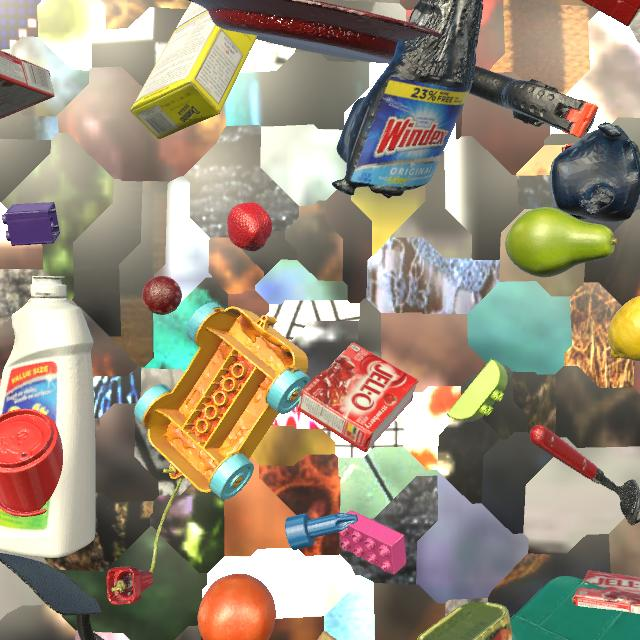ycb_004_sugar_box: (130, 2, 263, 139)
ycb_009_gelatin_box: (297, 342, 419, 453), (0, 50, 55, 119), (572, 570, 640, 614)
ycb_010_potted_meat_can: (417, 602, 512, 640)
ycb_012_strawberry: (227, 202, 272, 251)
ycb_014_lemon: (608, 296, 640, 361)
ycb_016_pear: (505, 207, 617, 277)
ycb_017_orange: (198, 573, 276, 640)
